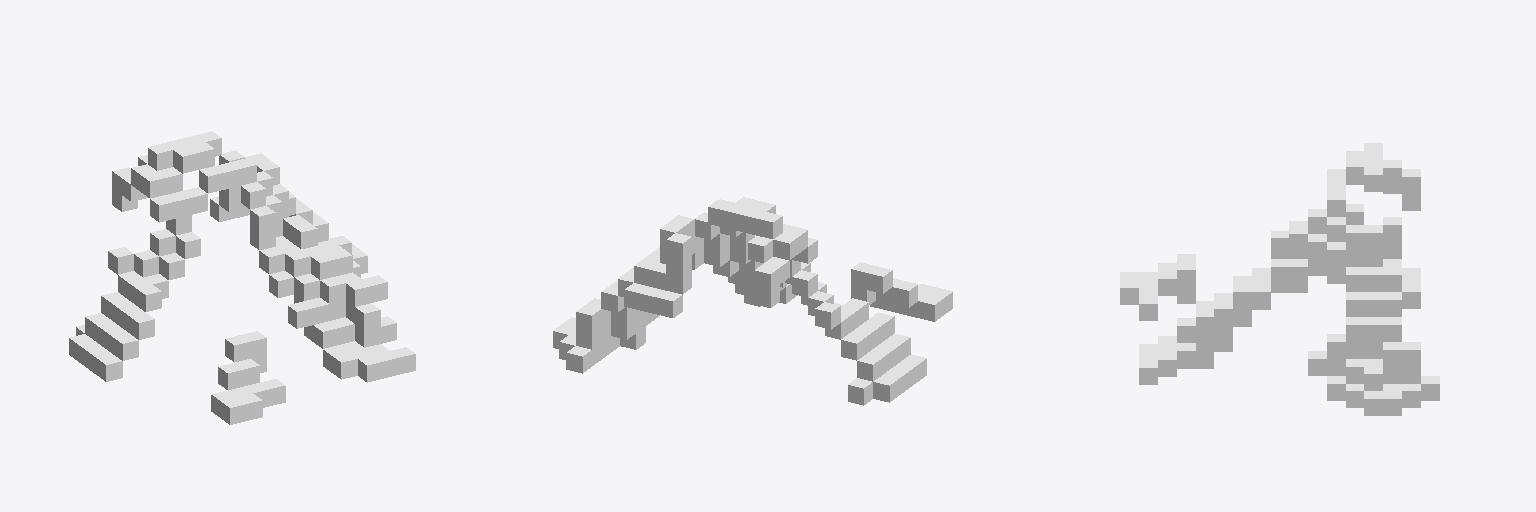
Rendered from Smol-Stone-0.obj.
3 renders of one model, left to right at view 1: azimuth 30°, elevation 25°; view 2: azimuth 150°, elevation 25°; view 3: azimuth 270°, elevation 25°, orthographic.
Parts seen in each view (by area): view 1: object 1; view 2: object 1; view 3: object 1.
Boxes of the visible parts, box(x1,y1,x2,y2) form: object 1: box(69, 131, 415, 424); object 1: box(553, 197, 952, 405); object 1: box(1120, 143, 1439, 415).
Size of the model in its own units: 1.9 by 1 by 1.7.